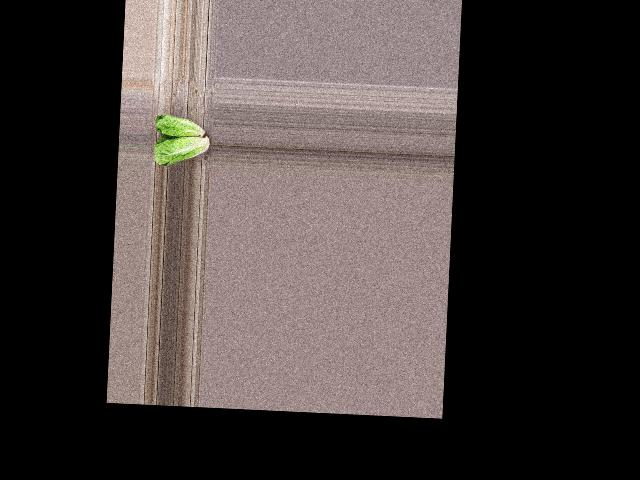lettuce: (151, 133, 212, 169)
